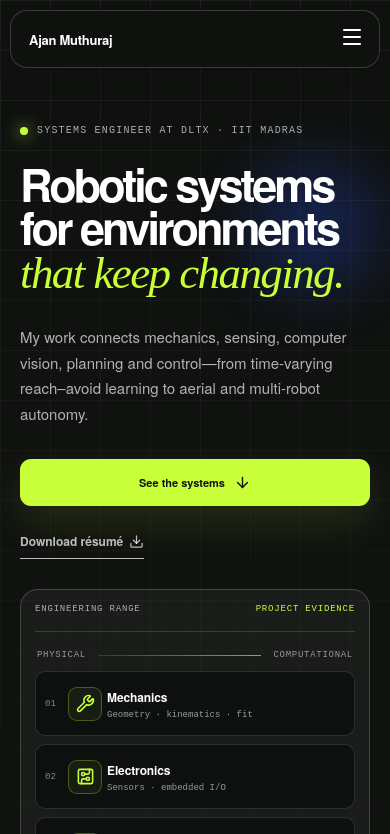
it: portfolio interactions › exposes mobile navigation state and closes the menu after navigation
Click the button named "Toggle navigation": (352, 39) [334,24,370,54]
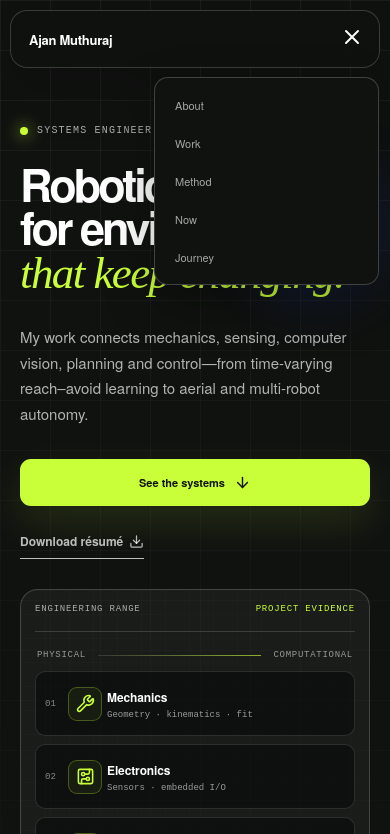
Check: the button named "Toggle navigation" is expanded, box [334,24,370,54]
Click the button "Work": (266, 143) [164,125,369,161]
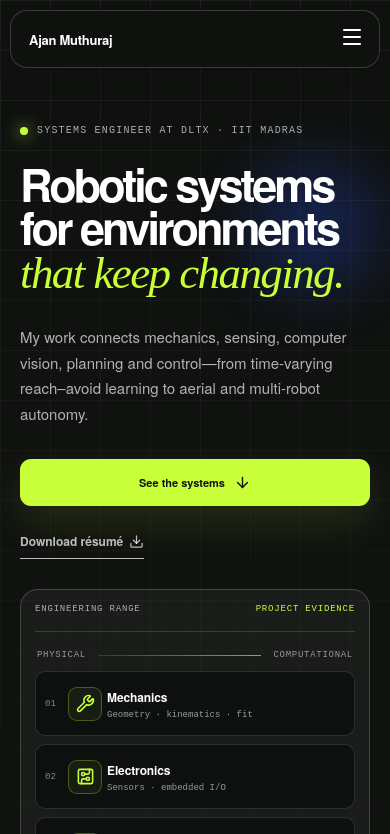
Check: the button named "Toggle navigation" is collapsed, box [334,24,370,54]
